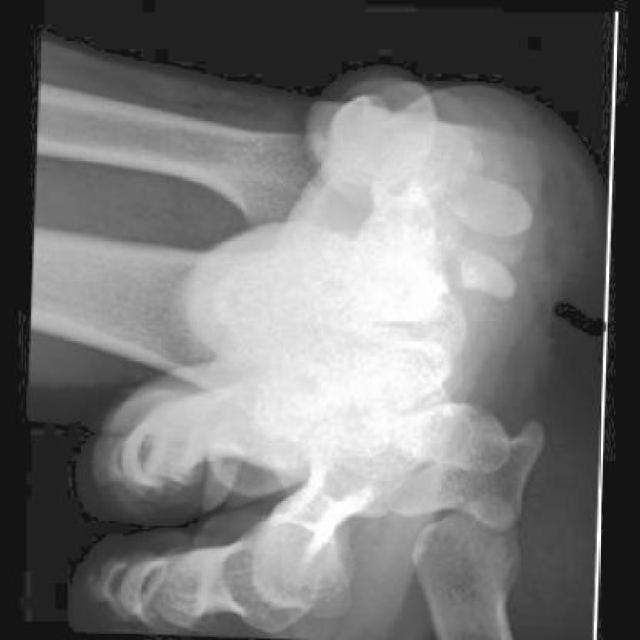Fracture: (439, 245, 479, 299)
